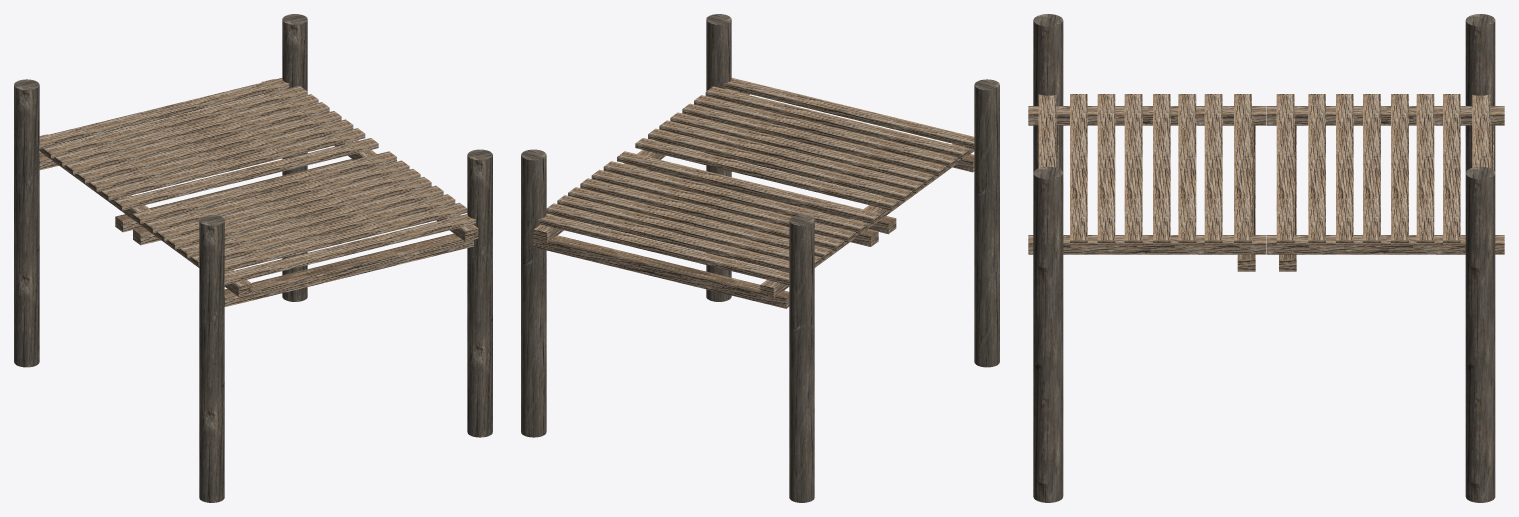
Rendered from PLATAFORMA 2.0 (2).fbx.
3 renders of one model, left to right at view 1: azimuth 30°, elevation 25°; view 2: azimuth 150°, elevation 25°; view 3: azimuth 270°, elevation 25°, orthographic. The views are drawn at different scales.
Visible parts, largest first — view 1: Columna 6x0.020, Columna 6x0.019, Columna 6x0.017, Cube.128, Cube.122, Cube.139, Cube.140, Cube.135, Cube.133, Cube.126, Cube.138, Cube.134 (+11 smaller); view 2: Columna 6x0.019, Columna 6x0.020, Columna 6x0.018, Cube.141, Cube.120, Cube.140, Cube.122, Cube.114, Cube.124, Cube.138, Cube.126, Cube.112 (+11 smaller); view 3: Columna 6x0.017, Columna 6x0.018, Columna 6x0.019, Columna 6x0.020, Cube.107, Cube.129, Cube.108, Cube.112, Cube.114, Cube.120, Cube.130, Cube.140 (+14 smaller).
Part boxes in pixels (bbox=[...]): Columna 6x0.020: bbox=[14, 79, 39, 367]; Columna 6x0.019: bbox=[199, 215, 224, 502]; Columna 6x0.017: bbox=[467, 149, 492, 437]; Cube.128: bbox=[224, 233, 473, 306]; Cube.122: bbox=[132, 151, 396, 223]; Cube.139: bbox=[101, 128, 365, 200]; Cube.140: bbox=[114, 138, 378, 210]; Cube.135: bbox=[65, 102, 329, 174]; Cube.133: bbox=[89, 119, 353, 191]; Cube.126: bbox=[224, 214, 475, 285]; Cube.138: bbox=[39, 78, 289, 148]; Cube.134: bbox=[77, 111, 341, 183]; Columna 6x0.019: bbox=[974, 79, 999, 367]; Columna 6x0.020: bbox=[789, 215, 814, 502]; Columna 6x0.018: bbox=[521, 149, 546, 437]; Cube.141: bbox=[533, 235, 789, 308]; Cube.120: bbox=[648, 128, 912, 201]; Cube.140: bbox=[617, 151, 881, 223]; Cube.122: bbox=[635, 138, 899, 210]; Cube.114: bbox=[682, 103, 946, 176]; Cube.124: bbox=[705, 86, 969, 158]; Cube.138: bbox=[538, 214, 789, 285]; Cube.126: bbox=[724, 78, 974, 148]; Cube.112: bbox=[694, 95, 957, 167]; Columna 6x0.017: bbox=[1033, 166, 1063, 502]; Columna 6x0.018: bbox=[1465, 166, 1495, 502]; Columna 6x0.019: bbox=[1033, 14, 1063, 172]; Columna 6x0.020: bbox=[1465, 14, 1495, 172]; Cube.107: bbox=[1028, 235, 1266, 254]; Cube.129: bbox=[1266, 235, 1504, 254]; Cube.108: bbox=[1178, 94, 1196, 245]; Cube.112: bbox=[1097, 94, 1115, 245]; Cube.114: bbox=[1124, 94, 1142, 245]; Cube.120: bbox=[1204, 94, 1222, 245]; Cube.130: bbox=[1416, 94, 1434, 245]; Cube.140: bbox=[1276, 94, 1294, 245].
Size of the model in its own units: 657 by 600 by 800.
2 materials, 2 textured.
